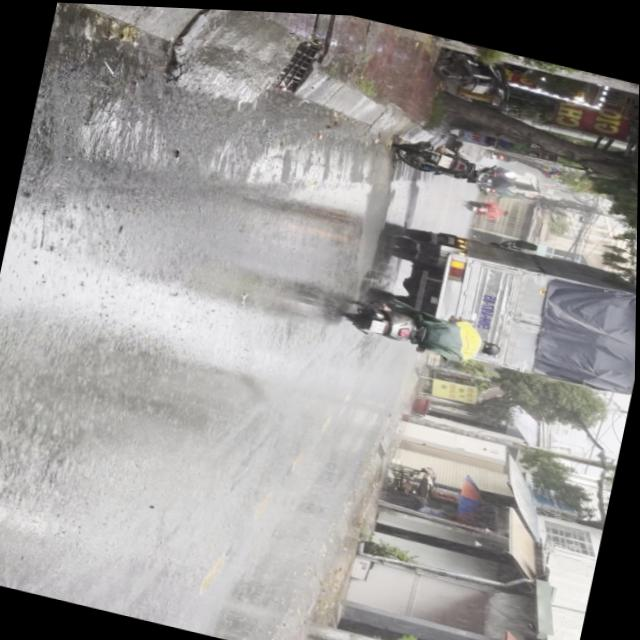helmet: (480, 336, 503, 355)
licenseplate: (334, 286, 508, 368)
nohelmet: (370, 316, 387, 331)
